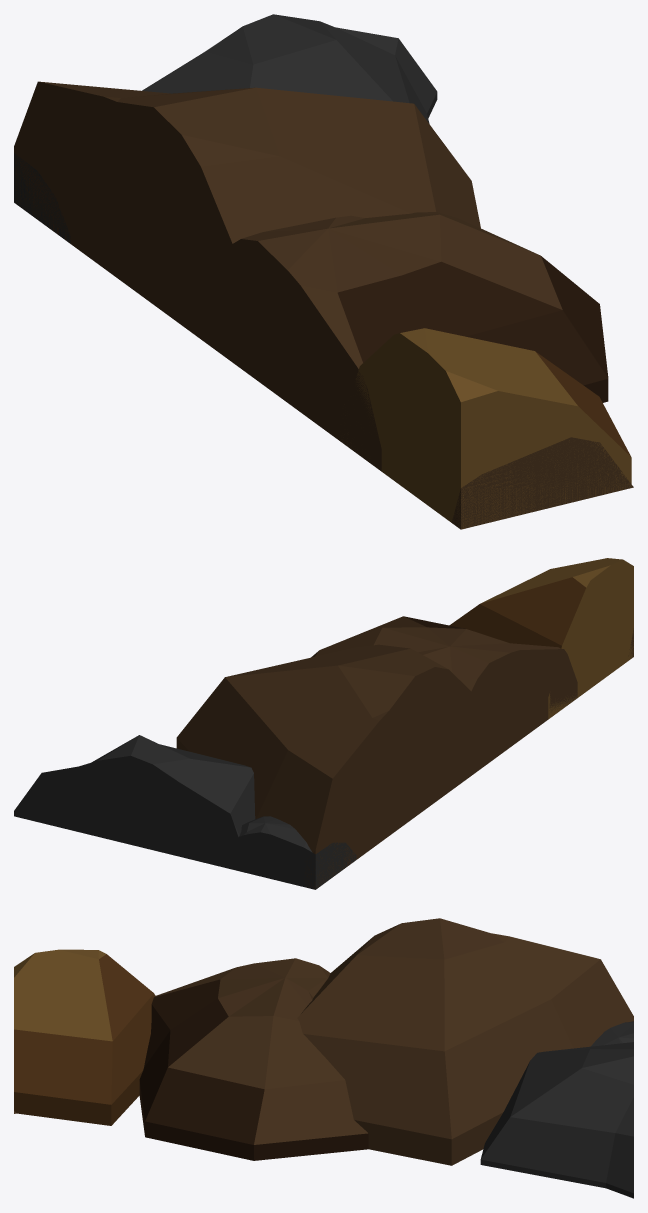
Rendered from newshr-241.glb.
The picture shows the model from 3 angles, top to bottom: view 1: azimuth 30°, elevation 25°; view 2: azimuth 150°, elevation 25°; view 3: azimuth 270°, elevation 25°; orthographic projection. The views are drawn at different scales.
Visible parts, largest first — view 1: newshr-241; view 2: newshr-241; view 3: newshr-241.
Boxes of the visible parts, bbox=[...] form: newshr-241: bbox=[14, 14, 633, 529]; newshr-241: bbox=[14, 558, 633, 889]; newshr-241: bbox=[14, 918, 633, 1198].
Size of the model in its own units: 1.28 by 0.5693 by 2.33.
